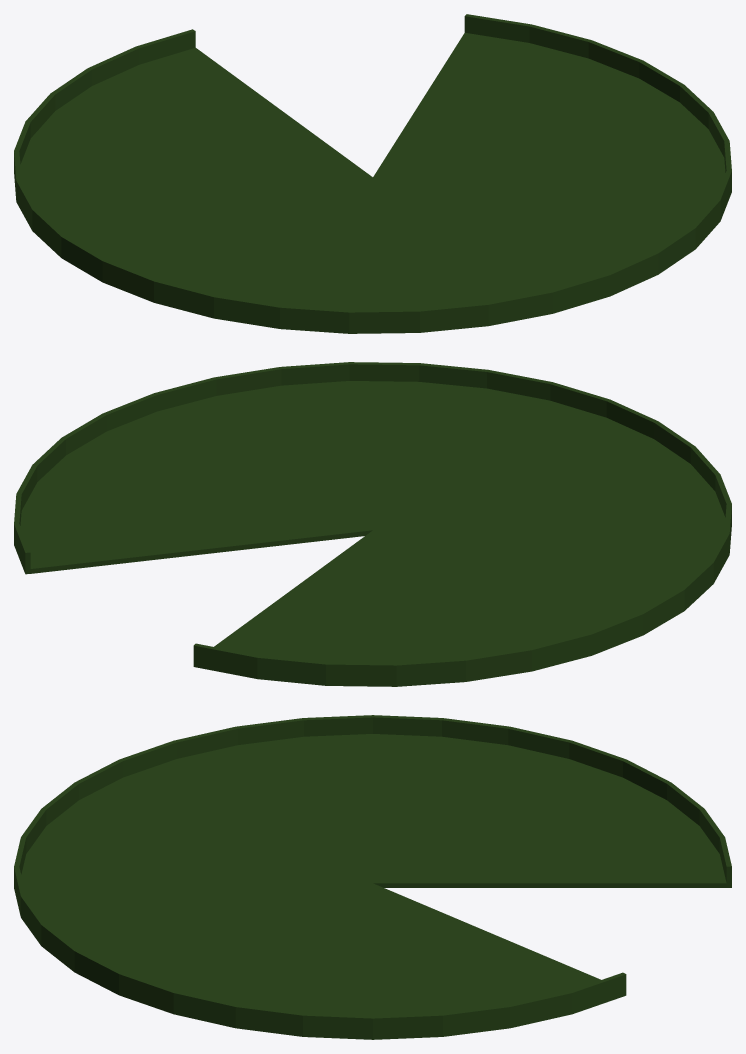
The model's file is Lillypad.fbx.
3 views of the same model, one above another, from view 1: azimuth 30°, elevation 25°; view 2: azimuth 150°, elevation 25°; view 3: azimuth 270°, elevation 25° (orthographic).
Parts seen in each view (by area): view 1: Circle; view 2: Circle; view 3: Circle.
Part boxes in pixels (<box>): Circle: <box>14,14,731,333</box>; Circle: <box>14,362,731,686</box>; Circle: <box>14,715,731,1039</box>.
Size of the model in its own units: 203 by 6.65 by 203.
